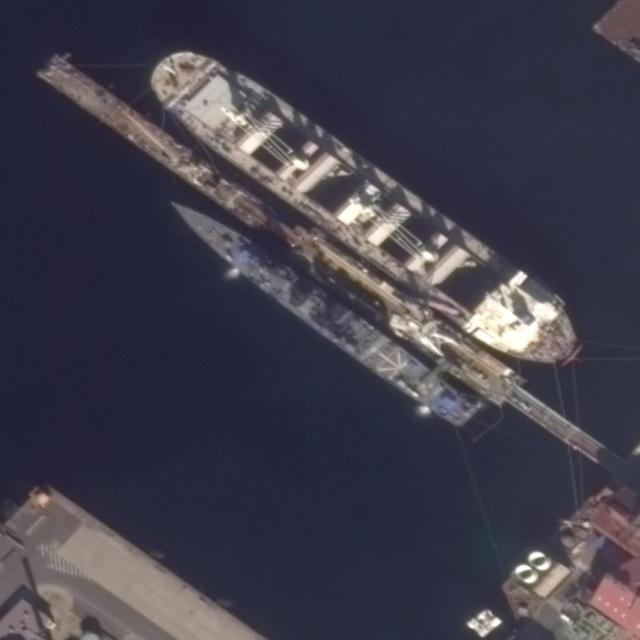Cargo: (131, 25, 600, 395)
Destroyer: (154, 185, 488, 436)
Dock: (31, 45, 628, 487)
